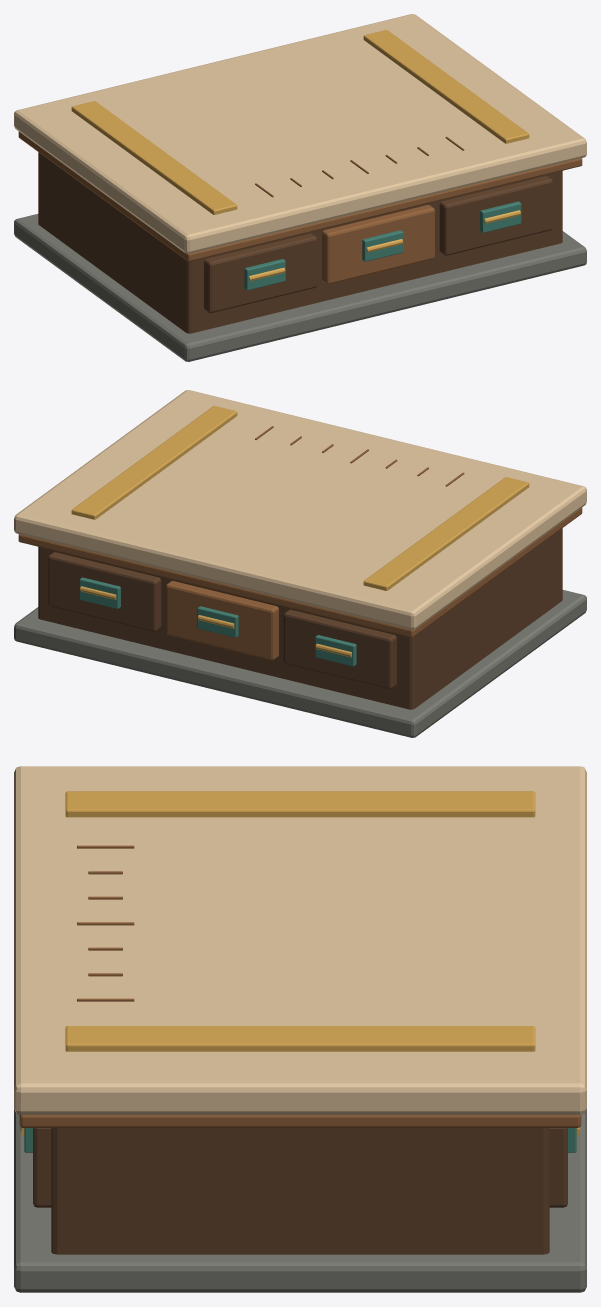
The model's file is cover-weigh-counter.glb.
3 views of the same model, one above another, from view 1: azimuth 30°, elevation 25°; view 2: azimuth 150°, elevation 25°; view 3: azimuth 270°, elevation 25° (orthographic). The views are drawn at different scales.
Parts seen in each view (by area): view 1: Polished ledger slab, Counter carcass, Counter sill, Ledger drawer, Ledger drawer.002, Ledger drawer.001, Hammered rim, Weighing runner, Weighing runner.001, Stamped drawer escutcheon.002, Stamped drawer escutcheon, Stamped drawer escutcheon.001; view 2: Polished ledger slab, Counter carcass, Counter sill, Ledger drawer.003, Ledger drawer.005, Ledger drawer.004, Hammered rim, Weighing runner, Weighing runner.001, Stamped drawer escutcheon.005, Stamped drawer escutcheon.003, Stamped drawer escutcheon.004; view 3: Polished ledger slab, Counter carcass, Counter sill, Weighing runner, Weighing runner.001, Hammered rim, Ledger drawer.002, Ledger drawer.005.
Part boxes in pixels (left/top/right/bottom): Polished ledger slab: left=14, top=14, right=586, bottom=253; Counter carcass: left=38, top=152, right=562, bottom=333; Counter sill: left=14, top=214, right=586, bottom=361; Ledger drawer: left=204, top=233, right=317, bottom=313; Ledger drawer.002: left=439, top=176, right=552, bottom=255; Ledger drawer.001: left=322, top=205, right=434, bottom=284; Hammered rim: left=18, top=131, right=582, bottom=261; Weighing runner: left=71, top=101, right=237, bottom=214; Weighing runner.001: left=363, top=30, right=529, bottom=143; Stamped drawer escutcheon.002: left=480, top=201, right=521, bottom=232; Stamped drawer escutcheon: left=244, top=259, right=285, bottom=290; Stamped drawer escutcheon.001: left=362, top=230, right=403, bottom=261; Polished ledger slab: left=14, top=390, right=586, bottom=629; Counter carcass: left=38, top=528, right=562, bottom=709; Counter sill: left=14, top=590, right=586, bottom=737; Ledger drawer.003: left=283, top=609, right=396, bottom=689; Ledger drawer.005: left=48, top=552, right=161, bottom=631; Ledger drawer.004: left=166, top=581, right=278, bottom=660; Hammered rim: left=18, top=507, right=582, bottom=637; Weighing runner: left=363, top=477, right=529, bottom=590; Weighing runner.001: left=71, top=406, right=237, bottom=519; Stamped drawer escutcheon.005: left=79, top=577, right=120, bottom=608; Stamped drawer escutcheon.003: left=315, top=635, right=356, bottom=666; Stamped drawer escutcheon.004: left=197, top=606, right=238, bottom=637; Polished ledger slab: left=14, top=766, right=586, bottom=1114; Counter carcass: left=51, top=1128, right=549, bottom=1254; Counter sill: left=14, top=1109, right=586, bottom=1292; Weighing runner: left=65, top=791, right=535, bottom=817; Weighing runner.001: left=65, top=1026, right=535, bottom=1051; Hammered rim: left=19, top=1115, right=581, bottom=1127; Ledger drawer.002: left=33, top=1128, right=51, bottom=1207; Ledger drawer.005: left=549, top=1128, right=567, bottom=1207.
Size of the model in its own units: 3.2 by 1 by 2.4.
